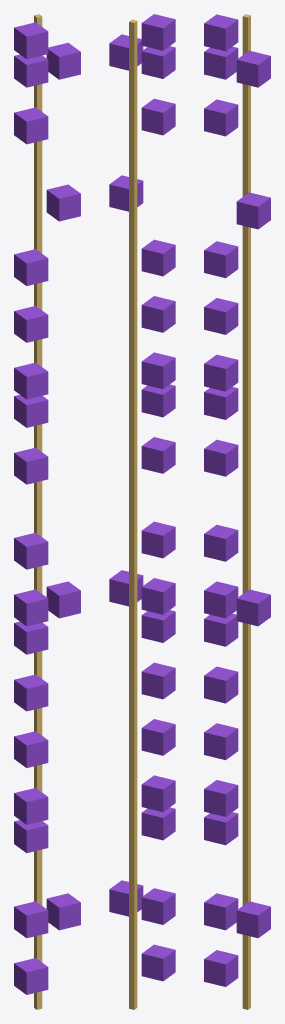
The model's file is SPEAKER.gltf.
3 views of the same model, side by side, from view 1: azimuth 30°, elevation 25°; view 2: azimuth 150°, elevation 25°; view 3: azimuth 330°, elevation 25° (orthographic).
Visible parts, largest first — view 1: plane0.stroke1, E.low.dot3 (×2), E.low.dot1 (×2), E.low.dot7 (×2), S.low.dot1, R.low.dot2, S.low.dot7, K.low.dot1, P.low.dot5, P.low.dot7, A.low.dot1, K.low.dot7 (+7 smaller); view 2: plane0.stroke1, E.low.dot1 (×2), E.low.dot3 (×2), E.low.dot7 (×2), A.low.dot1, K.low.dot1, R.low.dot2, S.low.dot1, P.low.dot7, S.low.dot7, A.low.dot7, K.low.dot7 (+7 smaller); view 3: plane0.stroke1, E.low.dot3 (×2), E.low.dot1 (×2), E.low.dot7 (×2), A.low.dot1, R.low.dot5, S.low.dot7, S.low.dot1, P.low.dot7, A.low.dot7, K.low.dot4, K.low.dot7 (+7 smaller).
Boxes of the visible parts, x1=… form: plane0.stroke1: x1=34, y1=14, x2=42, y2=1009; E.low.dot3 (×2): x1=14, y1=362, x2=48, y2=824; E.low.dot1 (×2): x1=14, y1=306, x2=48, y2=767; E.low.dot7 (×2): x1=14, y1=395, x2=48, y2=853; S.low.dot1: x1=14, y1=22, x2=48, y2=59; R.low.dot2: x1=14, y1=901, x2=48, y2=938; S.low.dot7: x1=14, y1=107, x2=48, y2=144; K.low.dot1: x1=14, y1=589, x2=48, y2=626; P.low.dot5: x1=46, y1=184, x2=80, y2=221; P.low.dot7: x1=14, y1=249, x2=48, y2=285; A.low.dot1: x1=14, y1=447, x2=48, y2=484; K.low.dot7: x1=14, y1=674, x2=48, y2=711; plane0.stroke1: x1=129, y1=19, x2=137, y2=1009; E.low.dot1 (×2): x1=141, y1=296, x2=175, y2=755; E.low.dot3 (×2): x1=141, y1=352, x2=175, y2=811; E.low.dot7 (×2): x1=141, y1=384, x2=175, y2=840; A.low.dot1: x1=141, y1=437, x2=175, y2=473; K.low.dot1: x1=141, y1=578, x2=175, y2=614; R.low.dot2: x1=141, y1=888, x2=175, y2=924; S.low.dot1: x1=141, y1=14, x2=175, y2=50; P.low.dot7: x1=141, y1=239, x2=175, y2=276; S.low.dot7: x1=141, y1=98, x2=175, y2=135; A.low.dot7: x1=141, y1=521, x2=175, y2=558; K.low.dot7: x1=141, y1=662, x2=175, y2=699; plane0.stroke1: x1=242, y1=14, x2=250, y2=1009; E.low.dot3 (×2): x1=204, y1=354, x2=238, y2=816; E.low.dot1 (×2): x1=204, y1=298, x2=238, y2=760; E.low.dot7 (×2): x1=204, y1=387, x2=238, y2=845; A.low.dot1: x1=204, y1=439, x2=238, y2=476; R.low.dot5: x1=236, y1=901, x2=270, y2=938; S.low.dot7: x1=204, y1=99, x2=238, y2=136; S.low.dot1: x1=204, y1=14, x2=238, y2=51; P.low.dot7: x1=204, y1=241, x2=238, y2=278; A.low.dot7: x1=204, y1=524, x2=238, y2=561; K.low.dot4: x1=236, y1=589, x2=270, y2=626; K.low.dot7: x1=204, y1=666, x2=238, y2=703.
Bounding box in the file's own units: 2 × 35 × 1.1.
